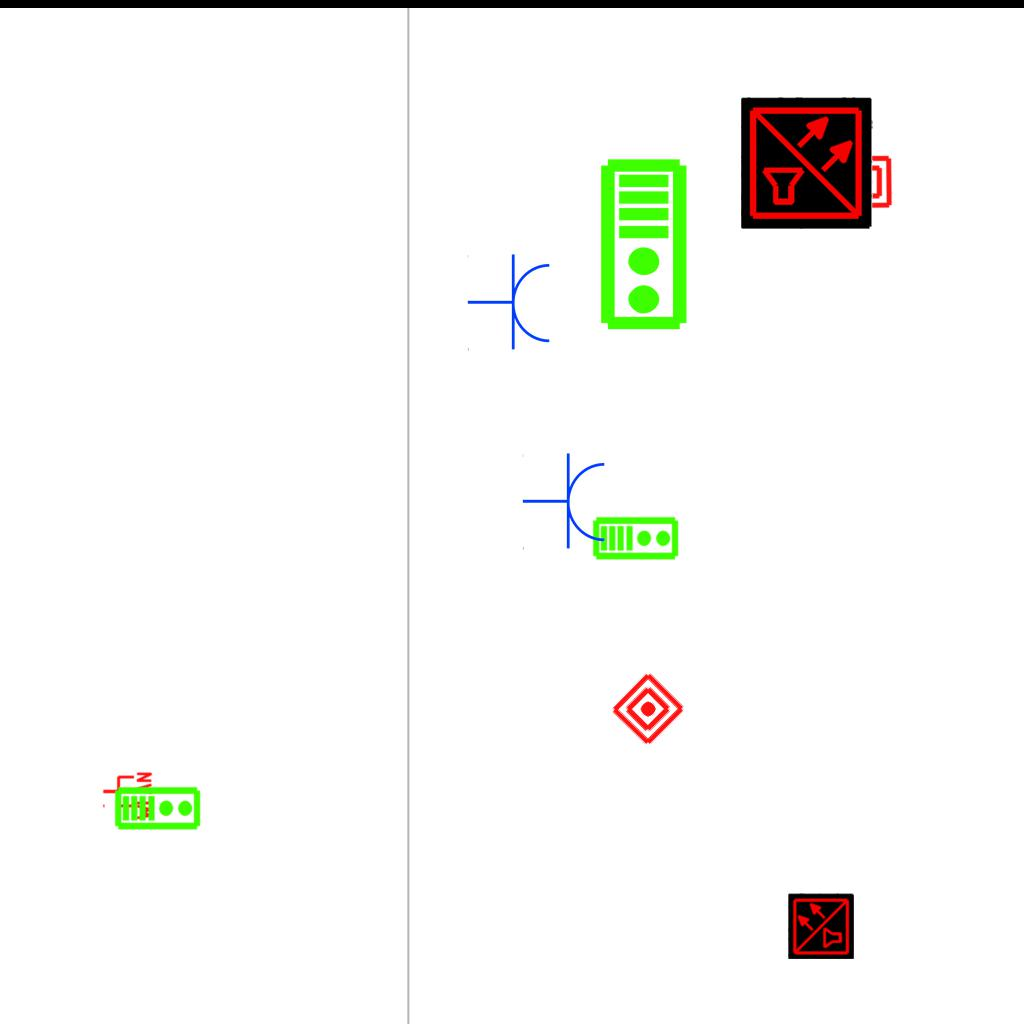Gegensprechanlage_mit_Video: (598, 157, 693, 333), (592, 514, 680, 561), (114, 784, 202, 831)
NAM-Nichtautomatischer_Melder: (608, 669, 688, 749), (837, 154, 893, 210)
OKW_Multisensormelder_(Kombination_optischer_Rauch-Kahlenmonoxid_Waerme-Melder): (741, 97, 873, 229), (788, 893, 854, 959)
Schukosteckdose_einfach: (467, 253, 554, 353), (522, 452, 609, 552)
WLAN: (101, 770, 153, 822)
